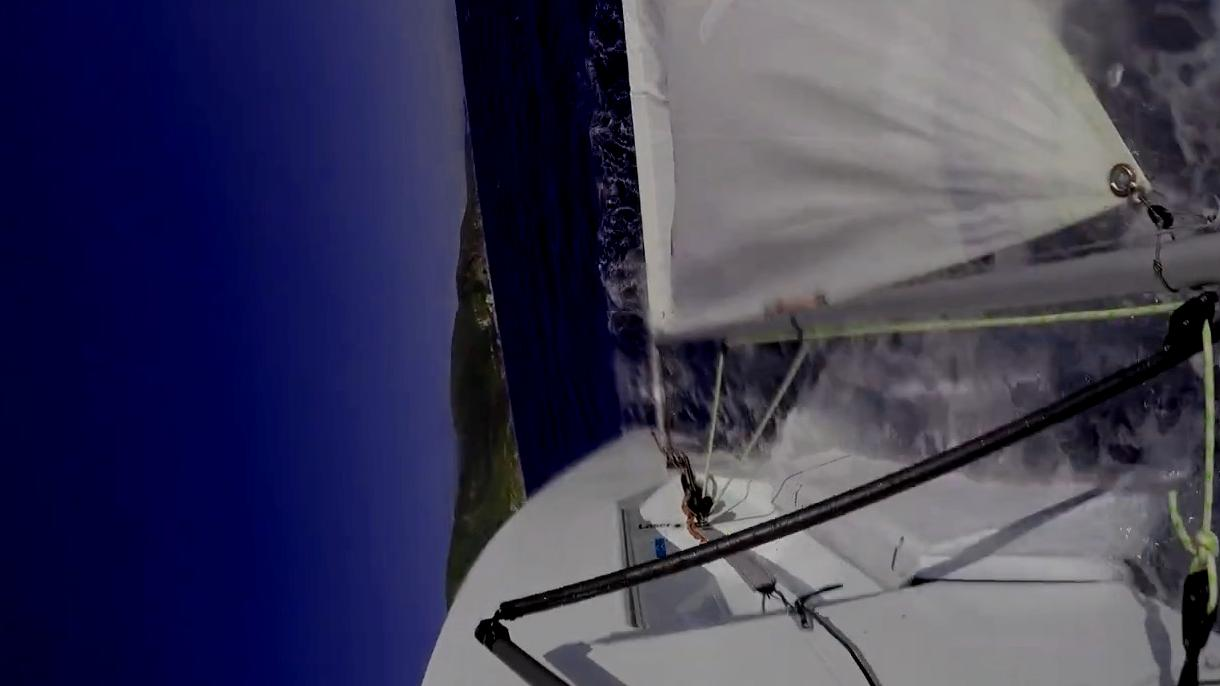boat: (421, 0, 1220, 686)
land: (449, 197, 529, 588)
sea: (454, 0, 668, 501), (677, 318, 1169, 462), (1061, 0, 1220, 220), (952, 354, 1208, 478), (1211, 338, 1220, 570)
sky: (0, 0, 470, 686)
